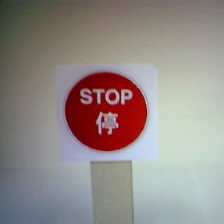stop: (55, 60, 150, 163)
